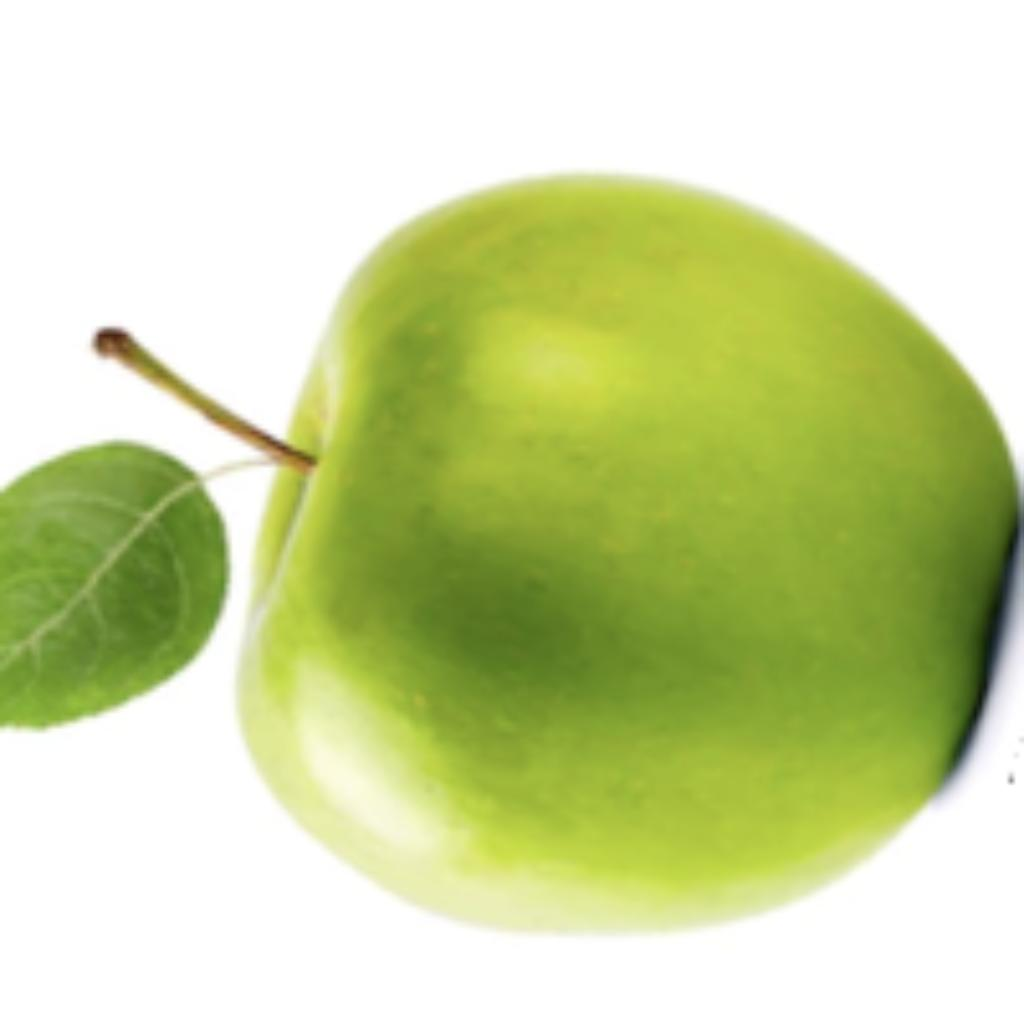apple: (0, 164, 1019, 937)
